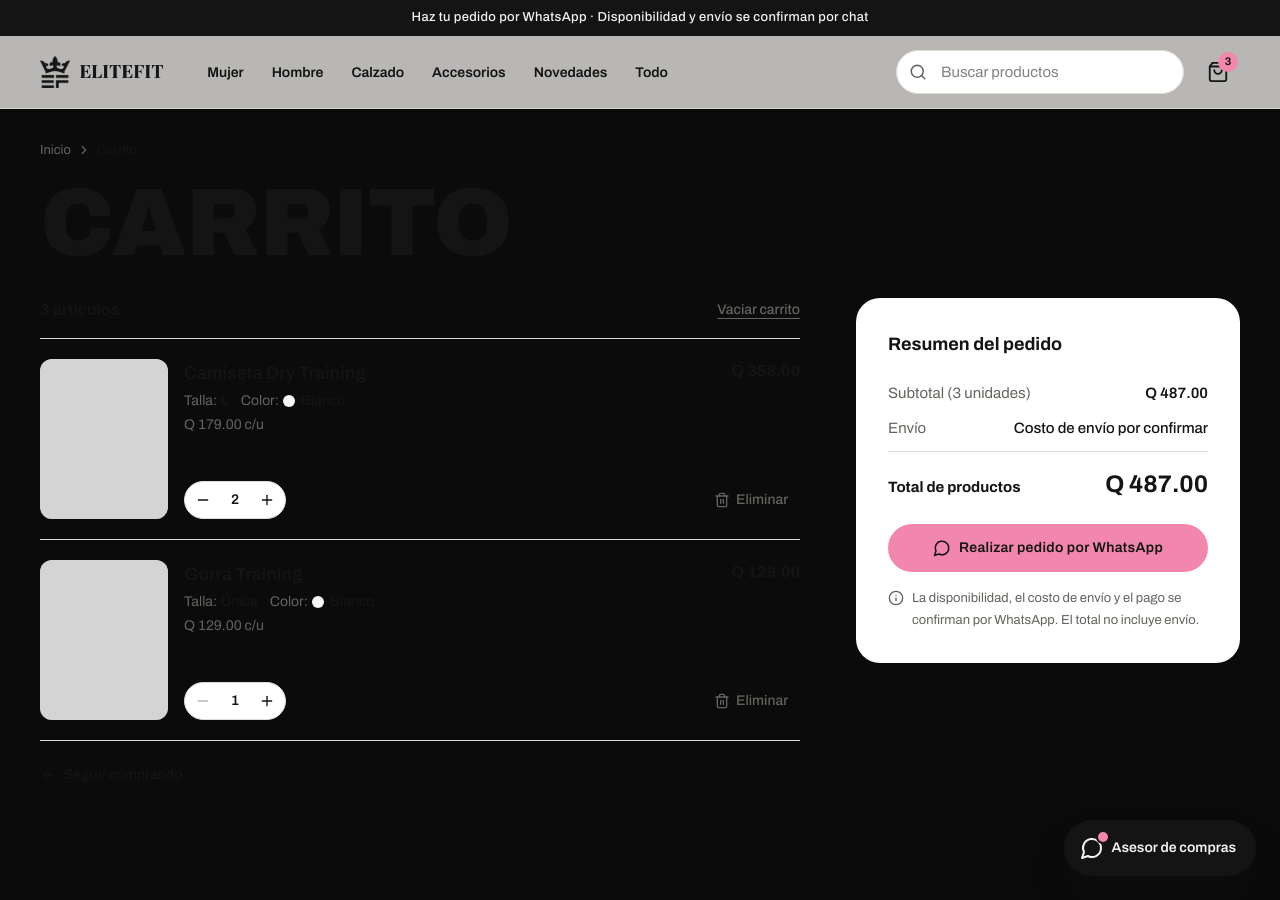
Test: pedido por WhatsApp › valida el formulario, abre wa.me con el mensaje y no vacía el carrito
Click the button "Realizar pedido por WhatsApp" at (1048, 548), box [888,524,1208,572]
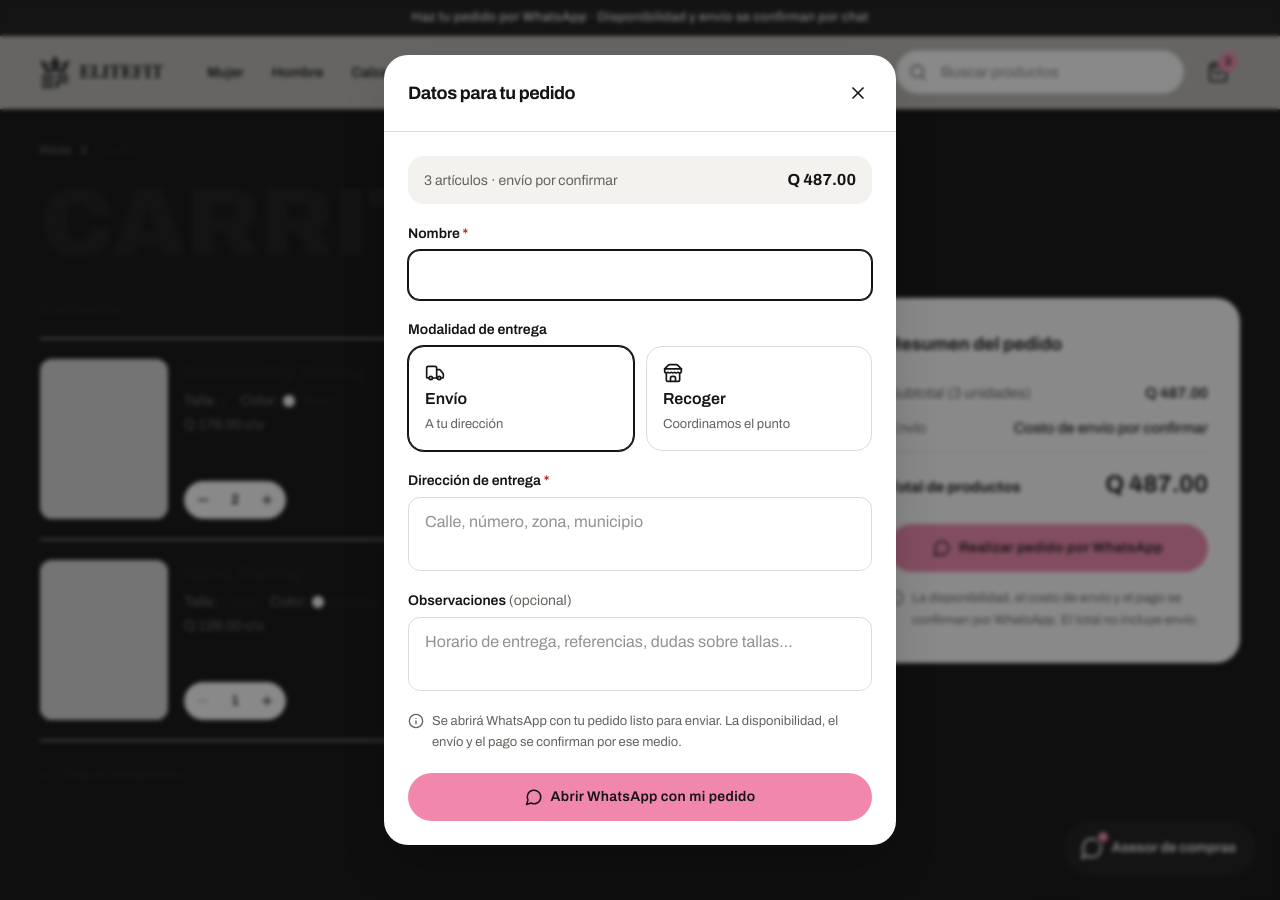
// Sin nombre ni dirección (envío por defecto) no abre WhatsApp.
Click the button "Abrir WhatsApp con mi pedido" at (640, 797), box [408,773,872,821]
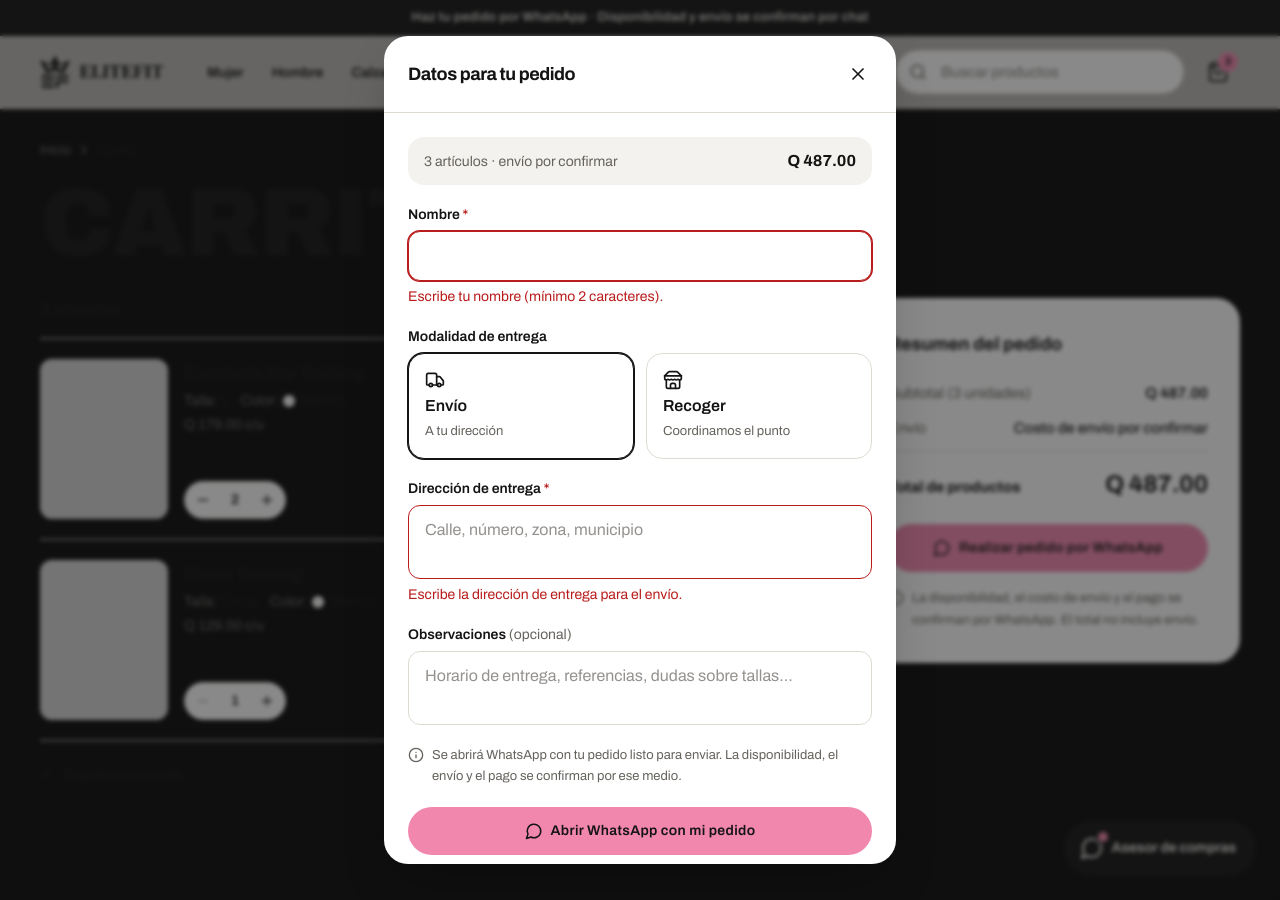
Expected: the text "Escribe tu nombre (mínimo 2 caracteres)." is shown, [408,289,663,304]
Expected: the text "Escribe la dirección de entrega para el envío." is shown, [408,586,682,602]
// Al elegir "Recoger" la dirección deja de ser obligatoria.
Type "Carlos Pérez" into the field labelled "Nombre *" at (640, 256), box [408,231,872,281]
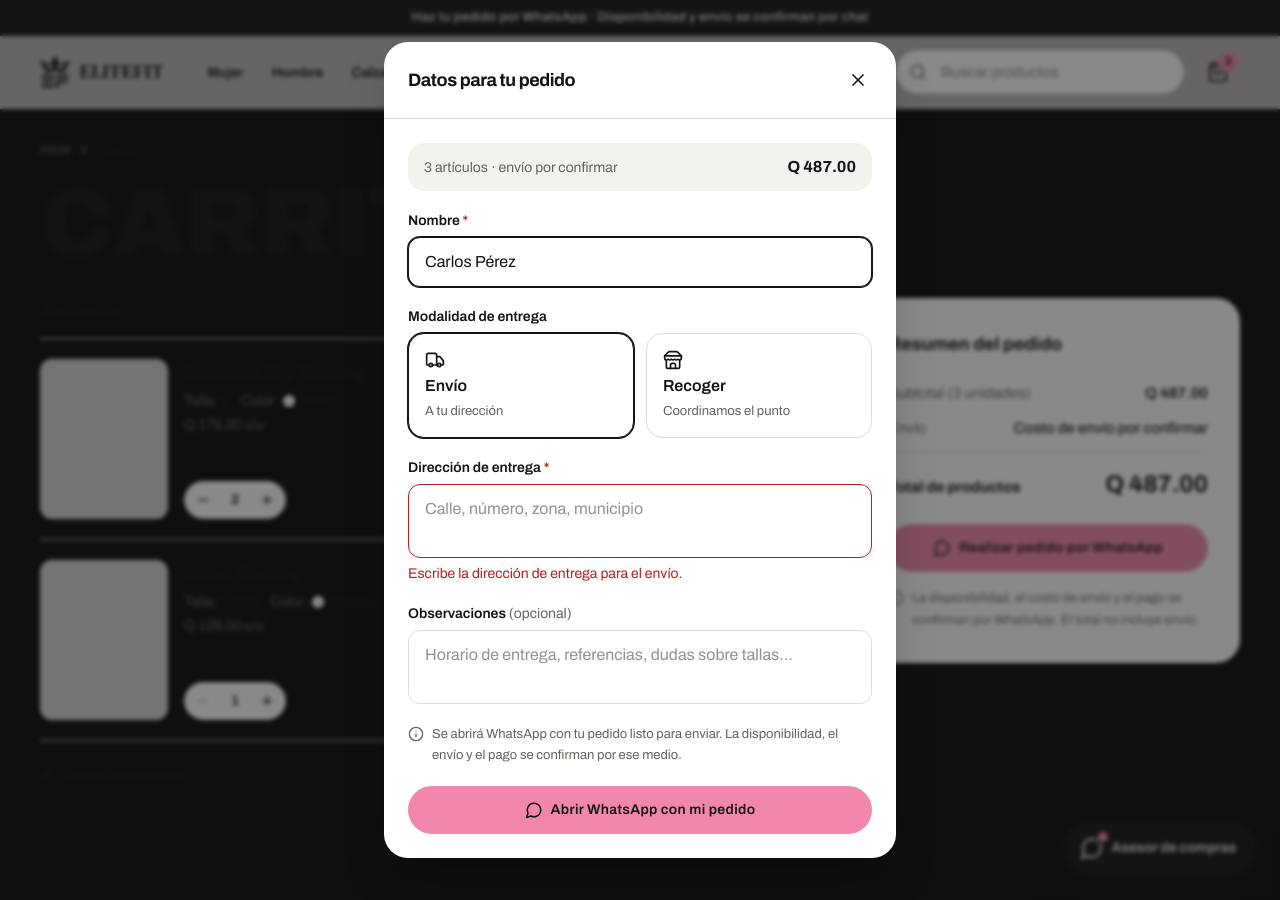
Click the radio button labelled "Recoger Coordinamos el punto" at (759, 385), box [646,333,872,438]
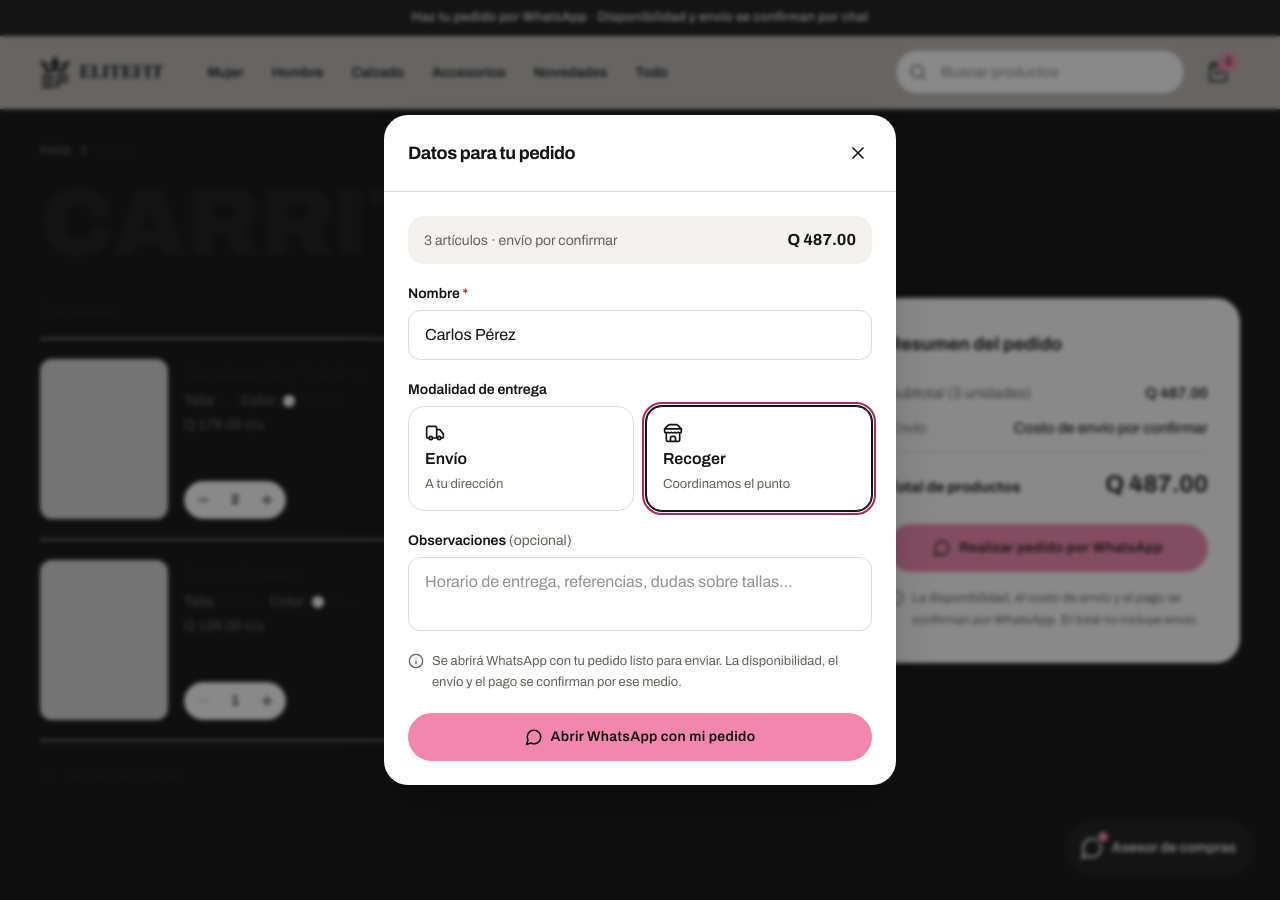
Expected: the label labelled "Dirección de entrega" is gone
Type "Paso el sábado" into the text box labelled "Observaciones (opcional)" at (640, 594), box [408,557,872,631]
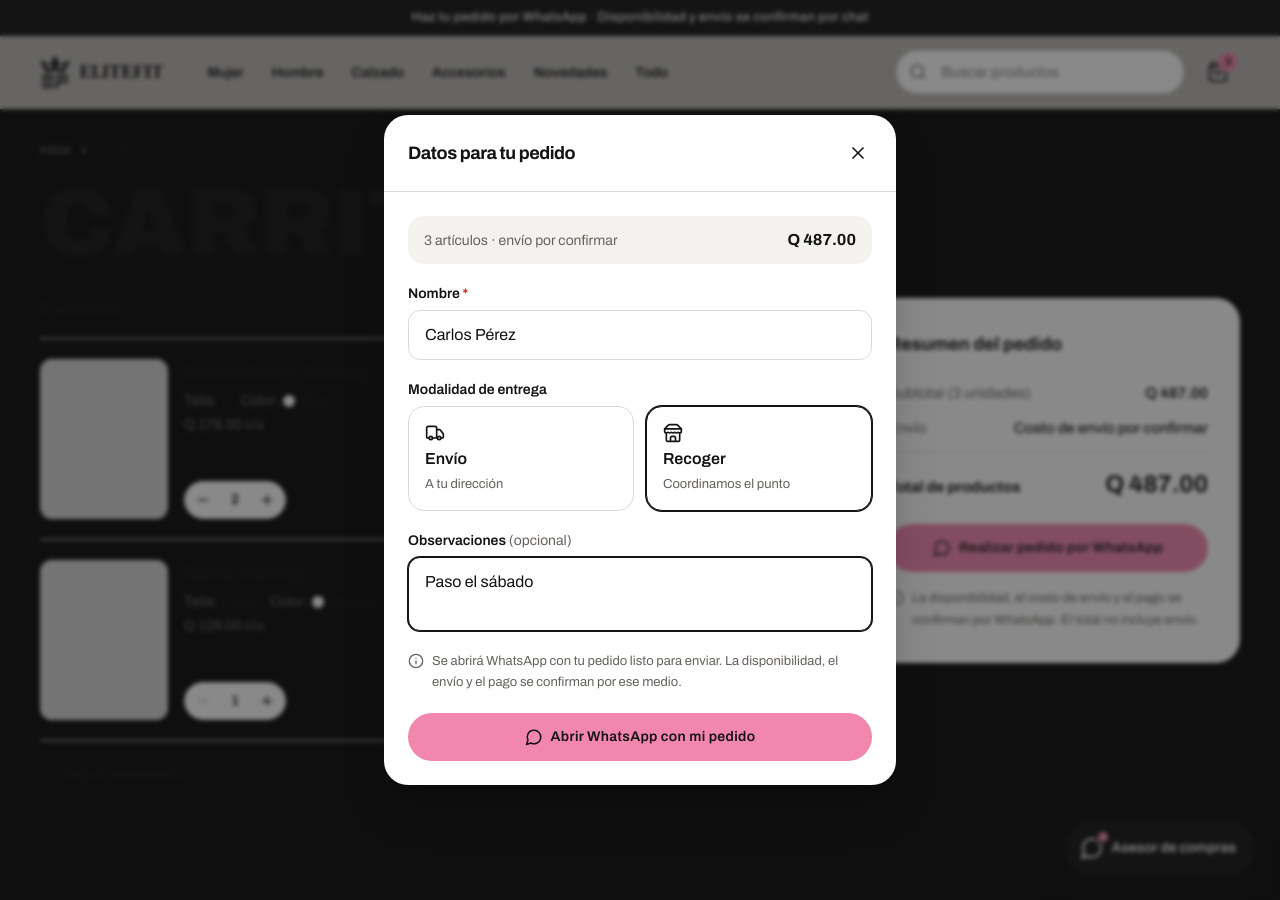
Click the button "Abrir WhatsApp con mi pedido" at (640, 737), box [408,713,872,761]
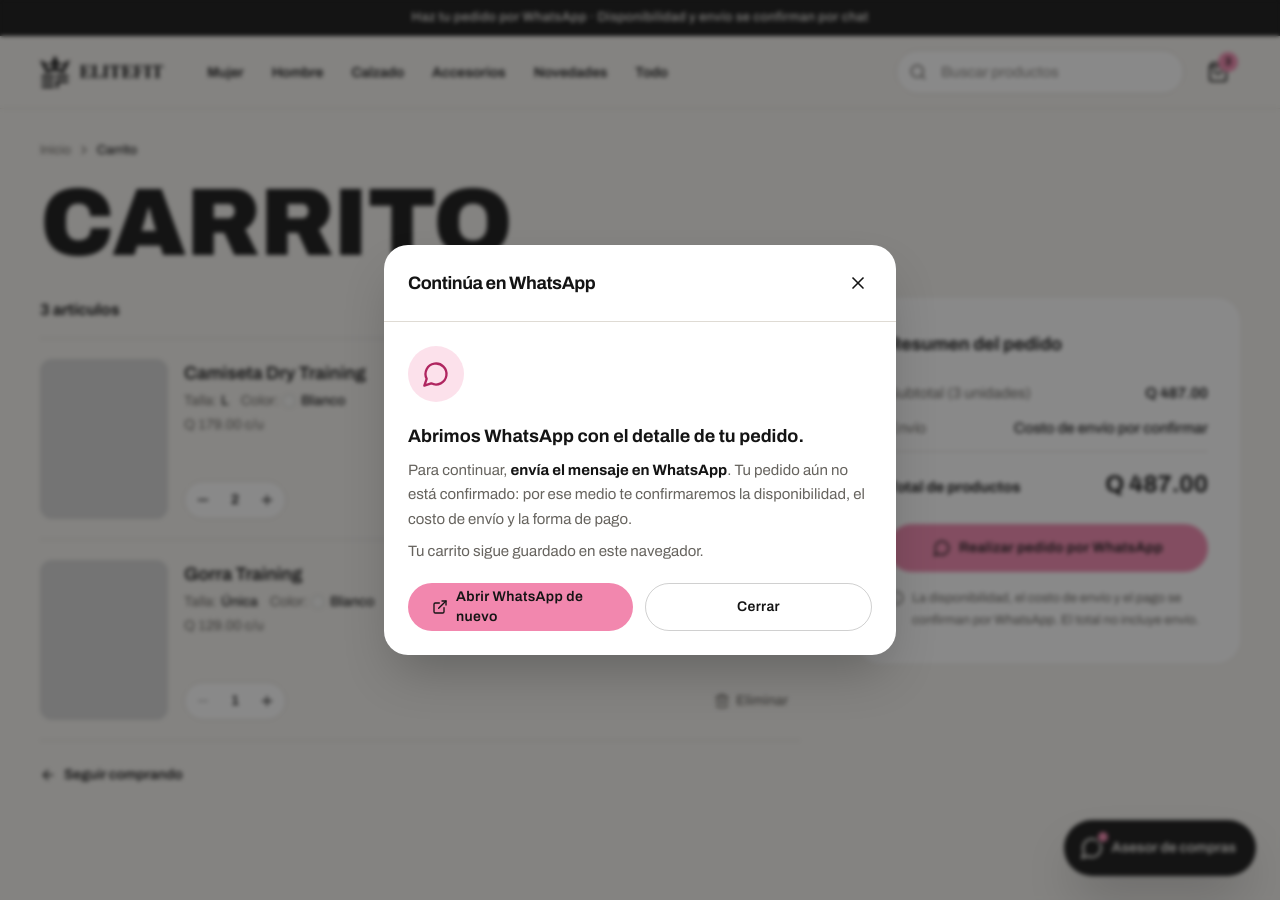
Expected: the text "Tu pedido aún no está confirmado" is shown, [408,462,865,527]
